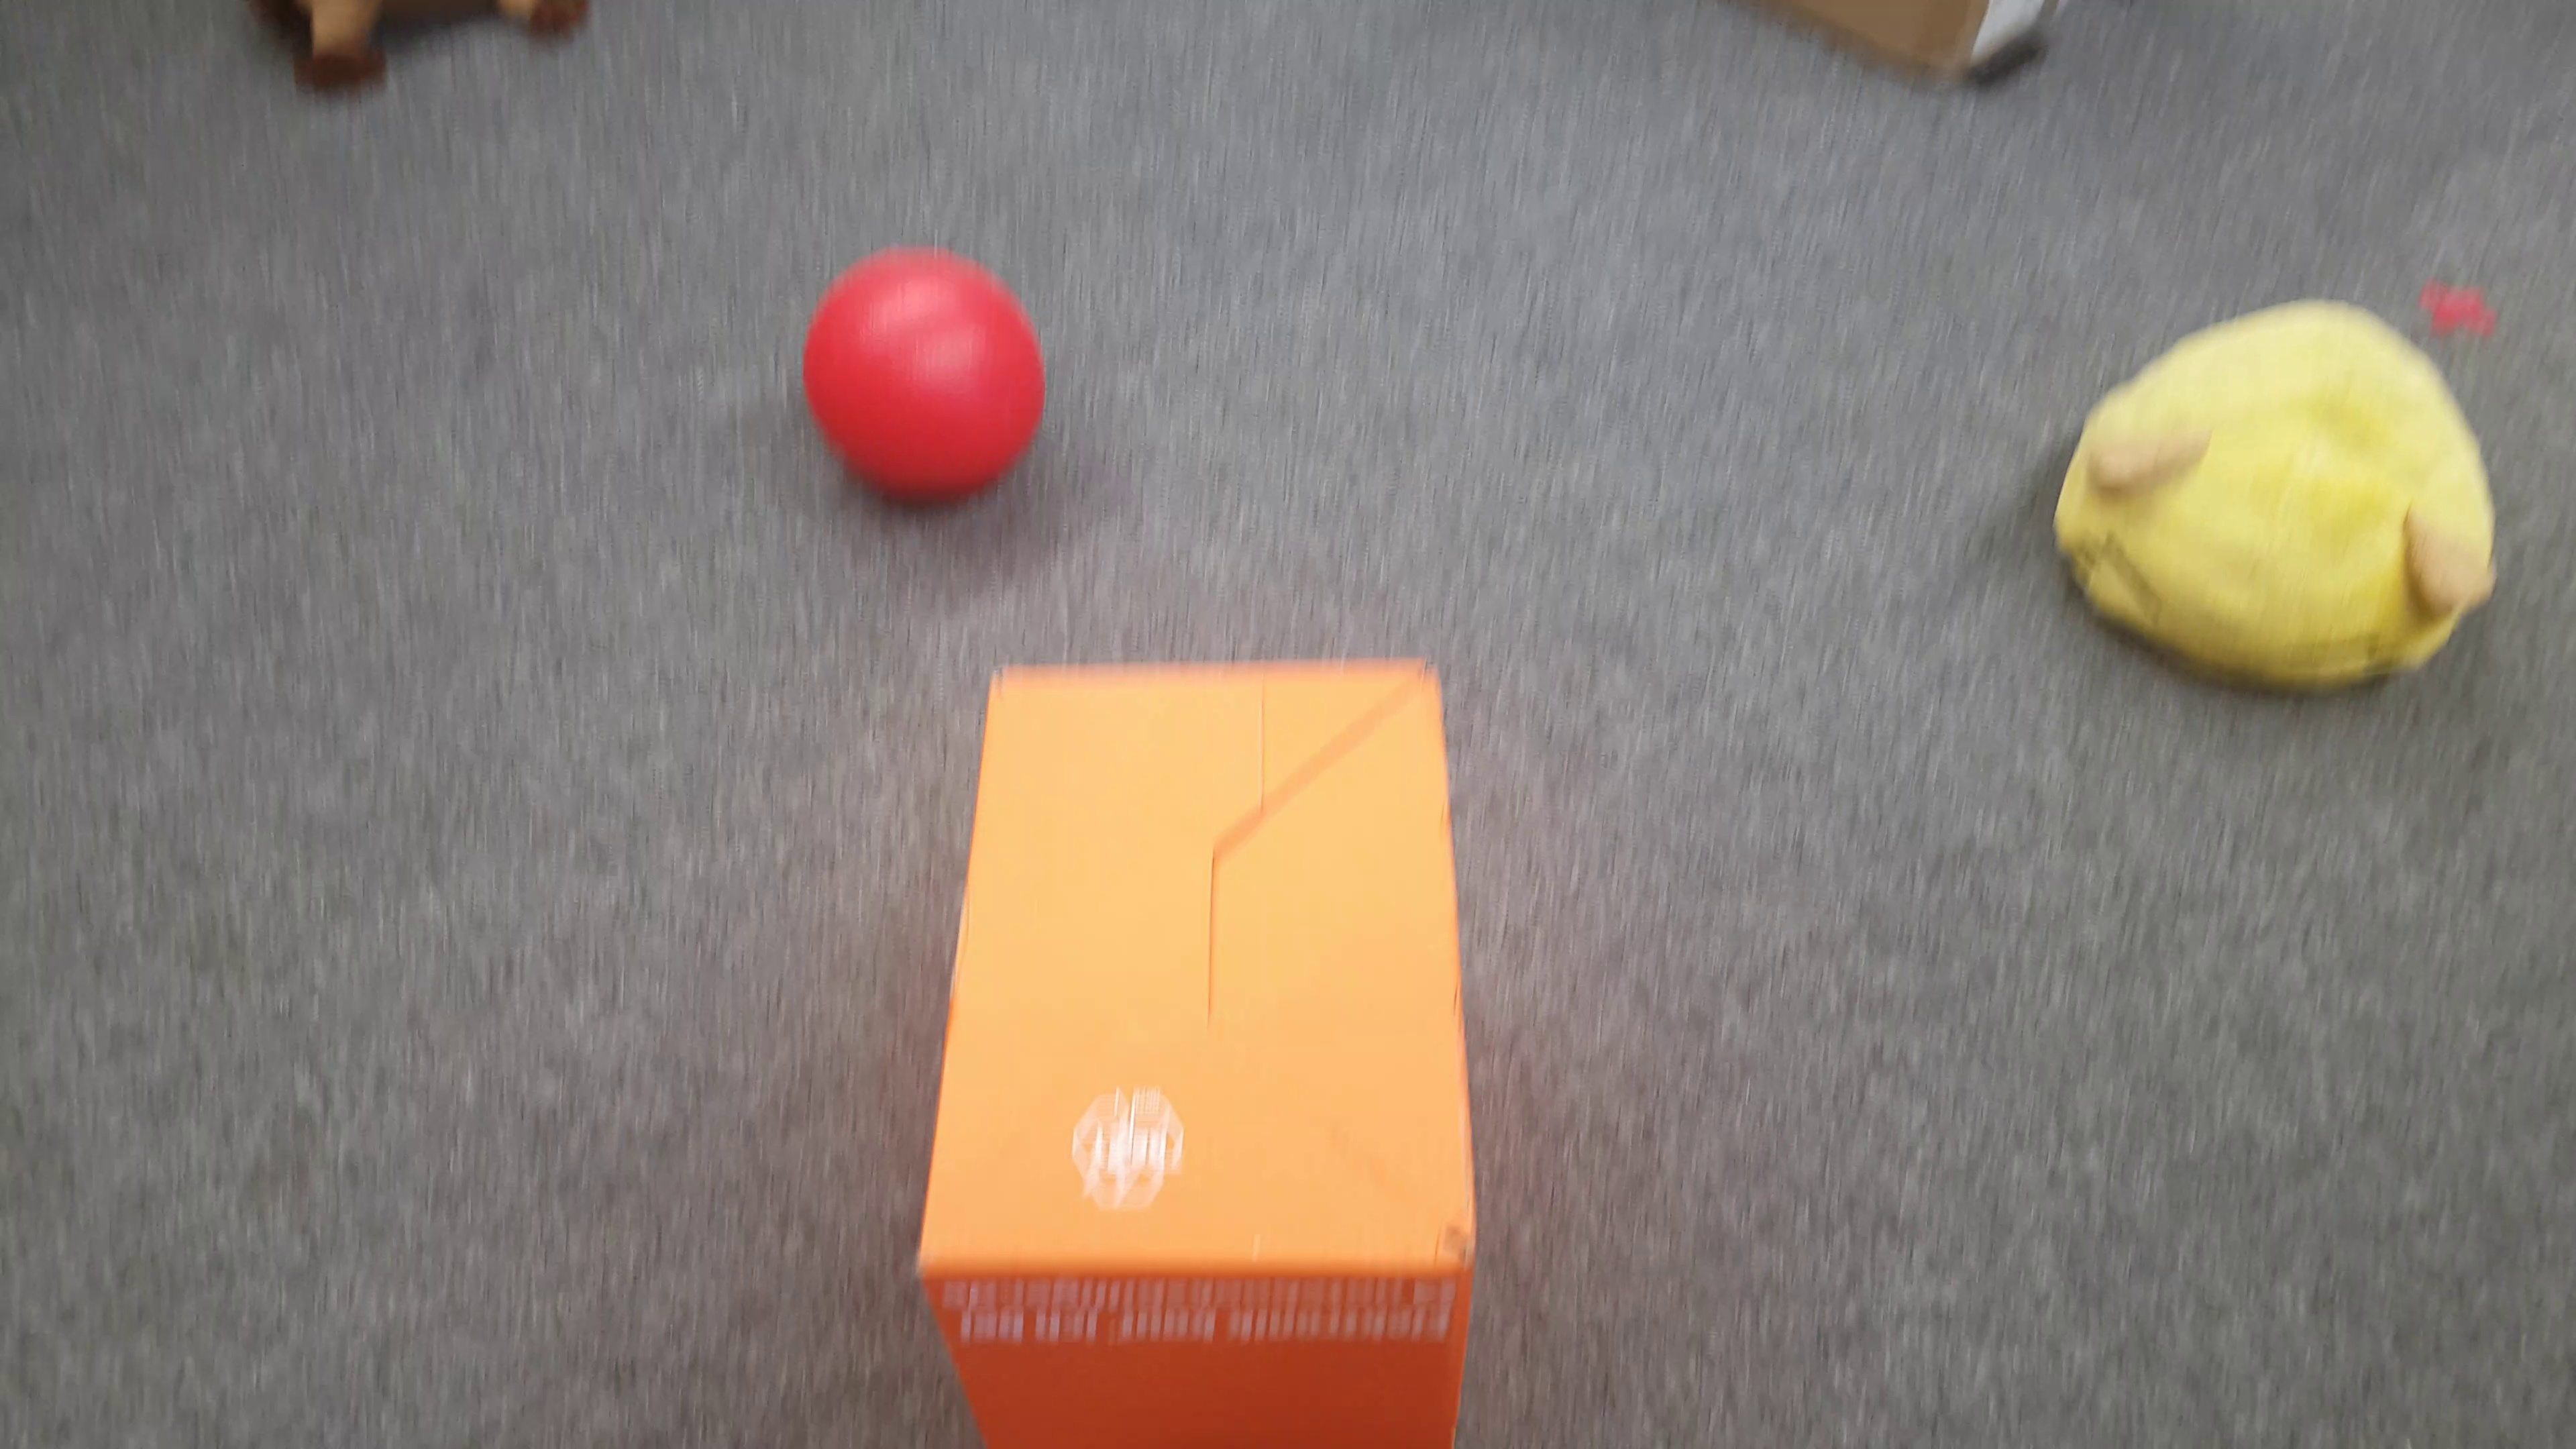grasp: (2051, 299, 2502, 708), (253, 0, 605, 99)
kick: (800, 239, 1053, 506)
push: (918, 665, 1481, 1449)
